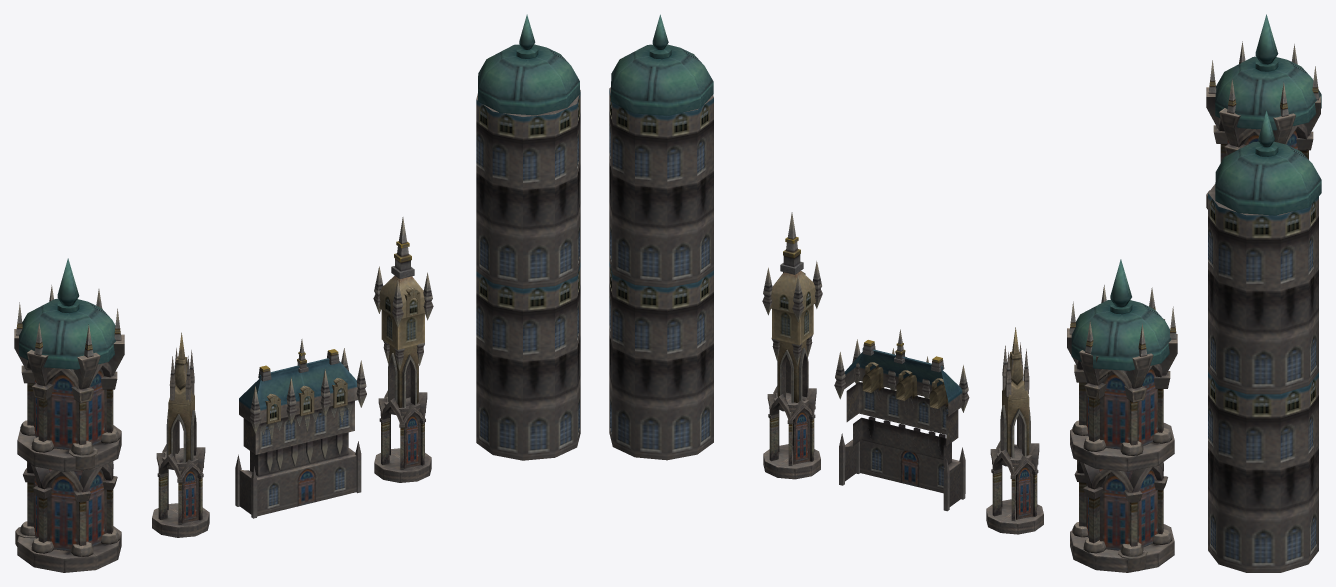
Rendered from f_103_bulding.FBX.
3 renders of one model, left to right at view 1: azimuth 30°, elevation 25°; view 2: azimuth 150°, elevation 25°; view 3: azimuth 270°, elevation 25°, orthographic. The views are drawn at different scales.
Visible parts, largest first — view 1: w_103_bulding_006, w_103_bulding_01, w_103_bulding_03, w_103_bulding_04, w_103_bulding_02; view 2: w_103_bulding_006, w_103_bulding_01, w_103_bulding_03, w_103_bulding_04, w_103_bulding_02; view 3: w_103_bulding_006, w_103_bulding_01.
Part boxes in pixels (x1,y1,x2,y2): w_103_bulding_006: [476, 14, 580, 460]; w_103_bulding_01: [14, 258, 124, 572]; w_103_bulding_03: [235, 339, 366, 518]; w_103_bulding_04: [373, 217, 433, 482]; w_103_bulding_02: [152, 332, 209, 537]; w_103_bulding_006: [609, 14, 713, 460]; w_103_bulding_01: [1067, 259, 1177, 572]; w_103_bulding_03: [834, 329, 969, 511]; w_103_bulding_04: [762, 212, 822, 479]; w_103_bulding_02: [986, 327, 1043, 534]; w_103_bulding_006: [1208, 110, 1321, 572]; w_103_bulding_01: [1206, 14, 1321, 209].
Bounding box in the file's own units: 20371 × 14928 × 3545.
